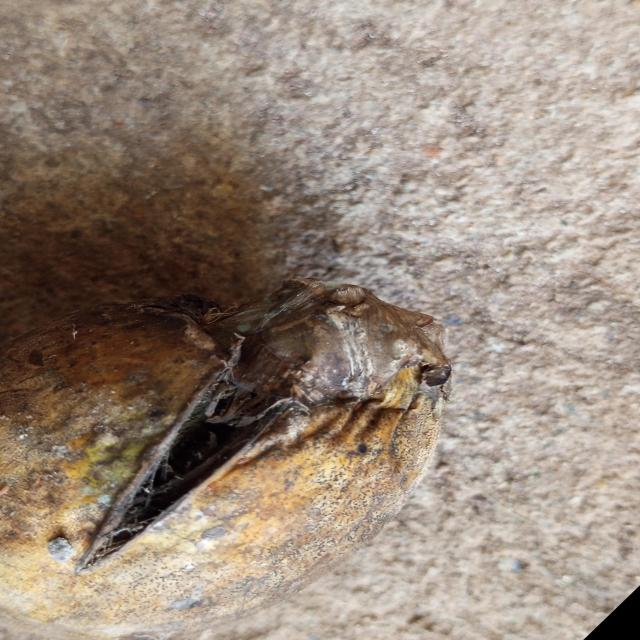damaged: (0, 282, 449, 640)
